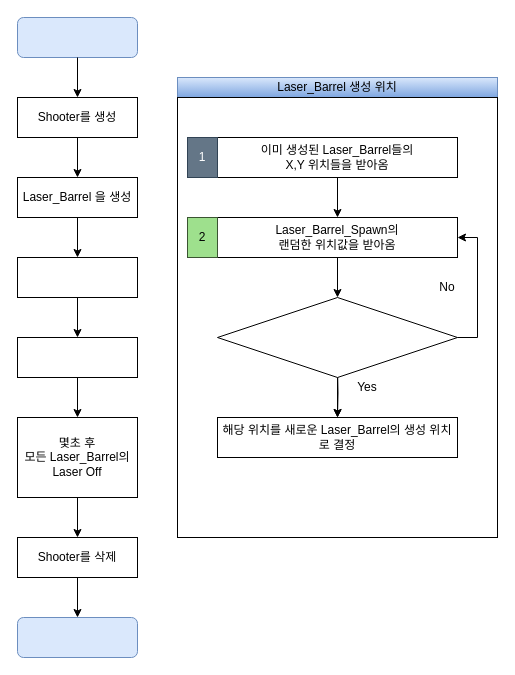
Image size: 515x675. Some labels were removed from this diagram. The box of each missing label's shape, as (x1, y1, x2, y2) in pixels:
1의 모든 값들에 대하여 2의 X,Y 값과 일정이상의 거리를 가지고 있는가?: (216, 296, 458, 378)
End: (16, 616, 138, 658)
Start: (16, 16, 138, 58)
몇초 후 Laser_Barrel이 Floor까지 낙하: (16, 256, 138, 298)
모든 Laser_Barrel의 Laser On: (16, 336, 138, 378)
